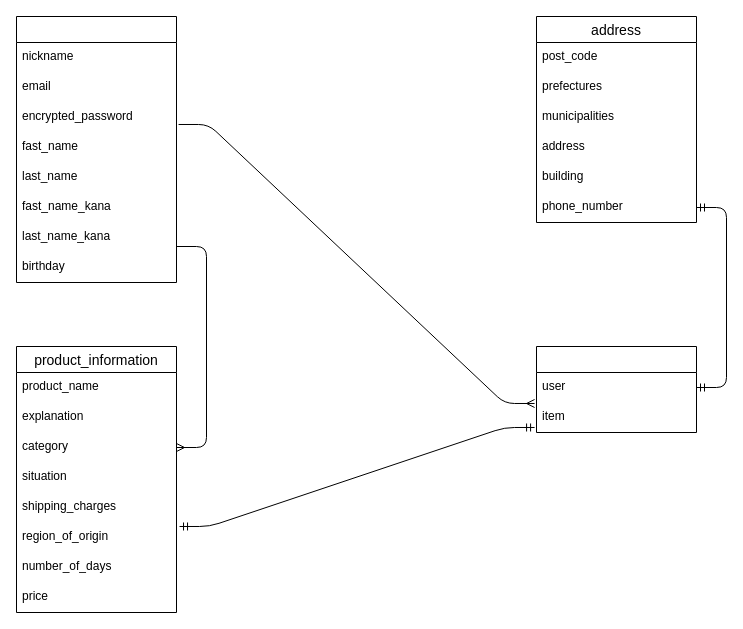
The diagram is 743 pixels wide and 629 high, and some of its shapes have lost their labels. The shapes that lost their labels are listed below. From the top down, each one's box as (x1, y1, x2, y2) in pixels, then its label:
(16, 16, 176, 282): users
(536, 346, 696, 432): order
